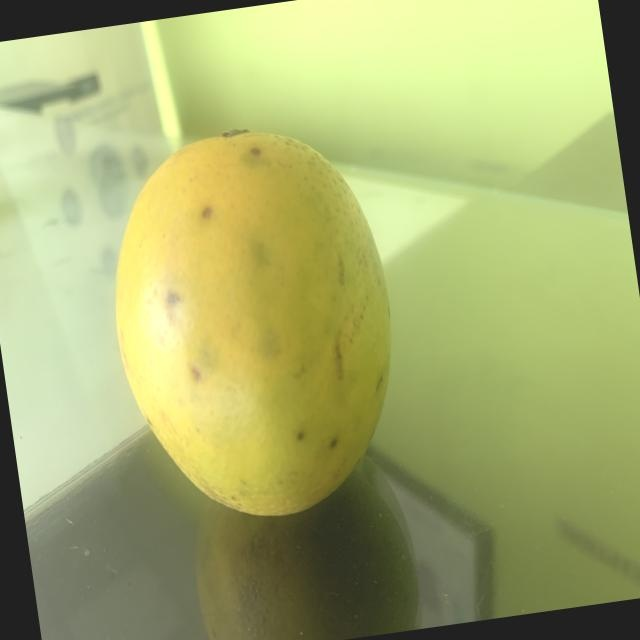agrume: (75, 101, 421, 544)
